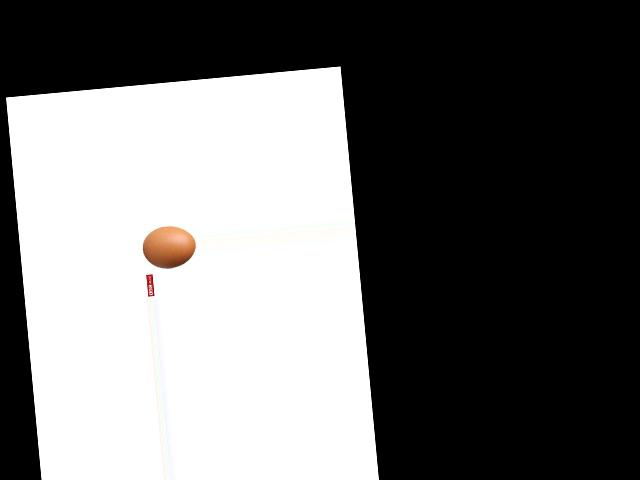egg: (141, 223, 196, 270)
